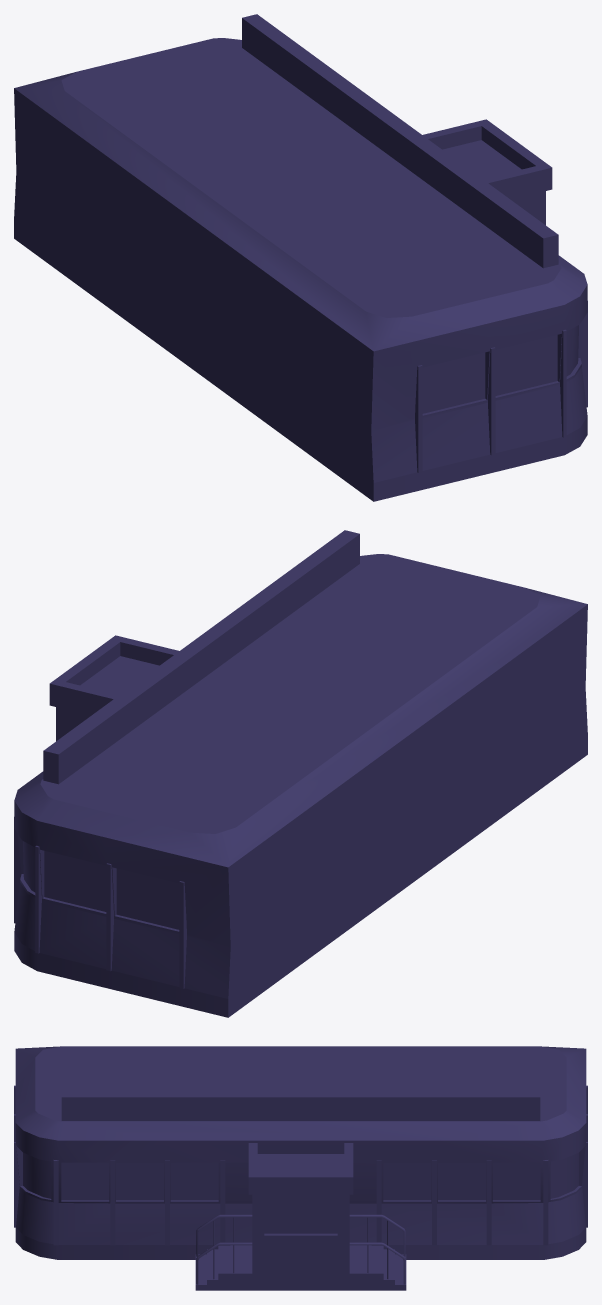
Rendered from Cafe1.fbx.
The picture shows the model from 3 angles, top to bottom: view 1: azimuth 30°, elevation 25°; view 2: azimuth 150°, elevation 25°; view 3: azimuth 270°, elevation 25°; orthographic projection. The views are drawn at different scales.
Parts seen in each view (by area): view 1: Куб.002; view 2: Куб.002; view 3: Куб.002.
Boxes of the visible parts, x1=… form: Куб.002: x1=14, y1=14, x2=587, y2=501; Куб.002: x1=14, y1=530, x2=587, y2=1017; Куб.002: x1=14, y1=1046, x2=587, y2=1290.
Bounding box in the file's own units: 890 × 506 × 1713.
